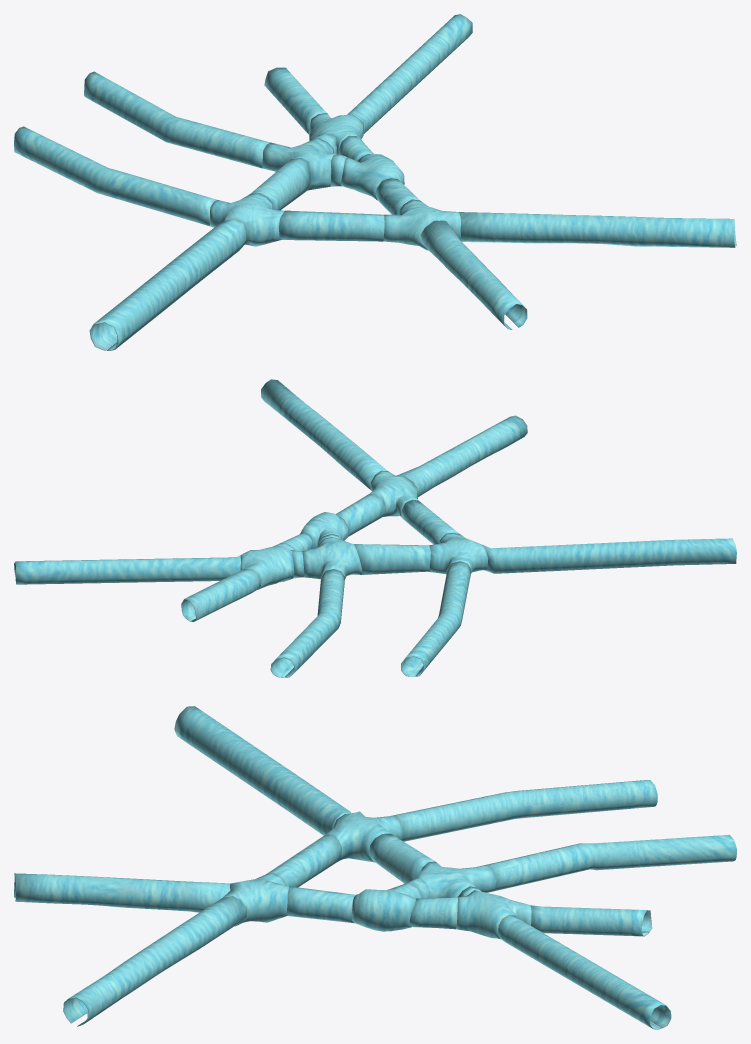
Rendered from TransparentTunneluSE.fbx.
3 renders of one model, top to bottom at view 1: azimuth 30°, elevation 25°; view 2: azimuth 150°, elevation 25°; view 3: azimuth 270°, elevation 25°, orthographic. The views are drawn at different scales.
Visible parts, largest first — view 1: TransparentTunnel; view 2: TransparentTunnel; view 3: TransparentTunnel.
Boxes of the visible parts, bbox=[...] form: TransparentTunnel: bbox=[14, 14, 736, 350]; TransparentTunnel: bbox=[14, 379, 736, 677]; TransparentTunnel: bbox=[14, 706, 736, 1029].
Size of the model in its own units: 175 by 10.66 by 175.
